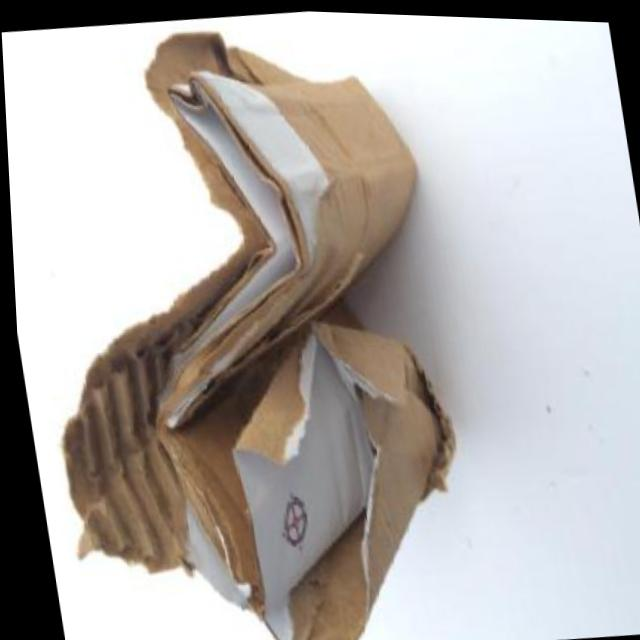box: (0, 0, 500, 640)
